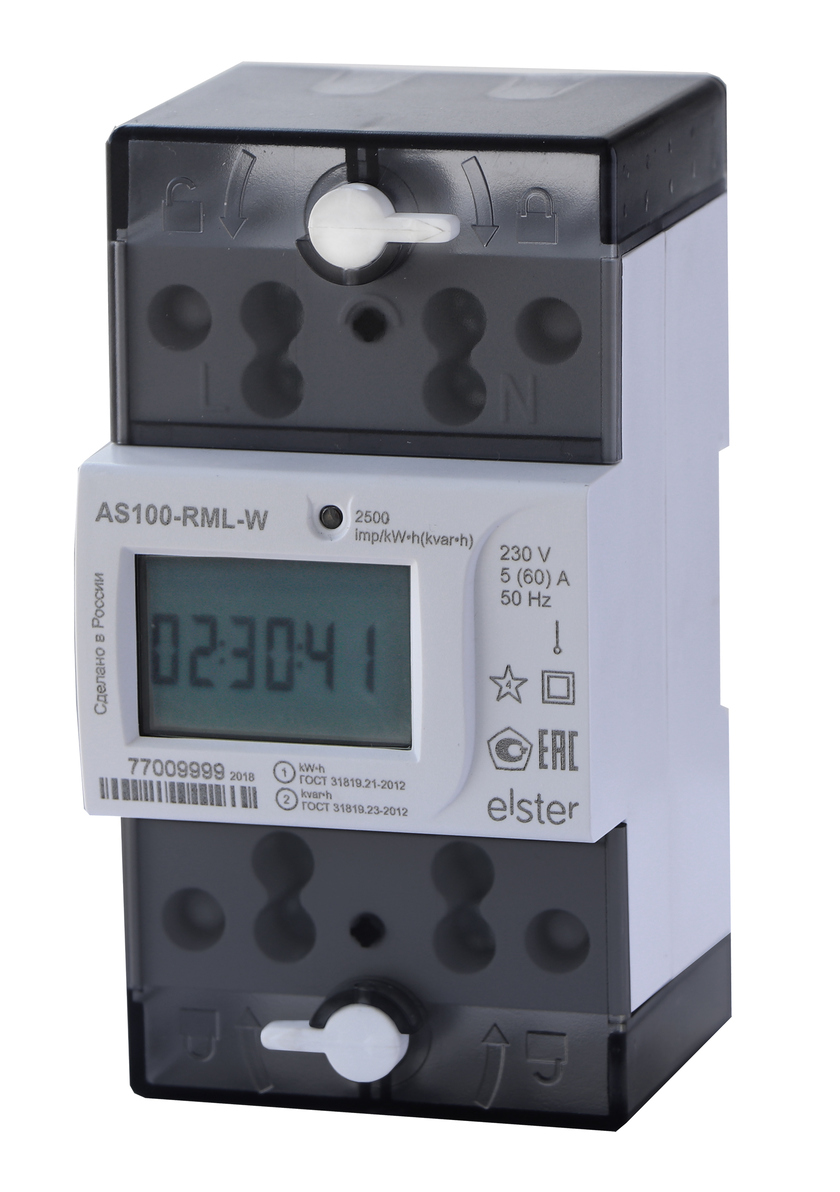counter: (79, 113, 645, 1141)
counter_screen: (126, 546, 423, 762)
